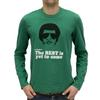abbigliamento_uomo: (15, 9, 88, 94)
